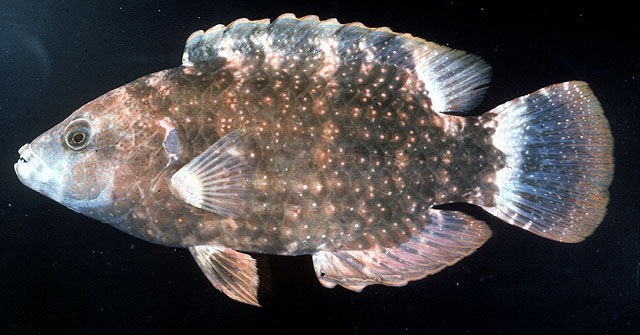fish: (13, 12, 614, 306)
